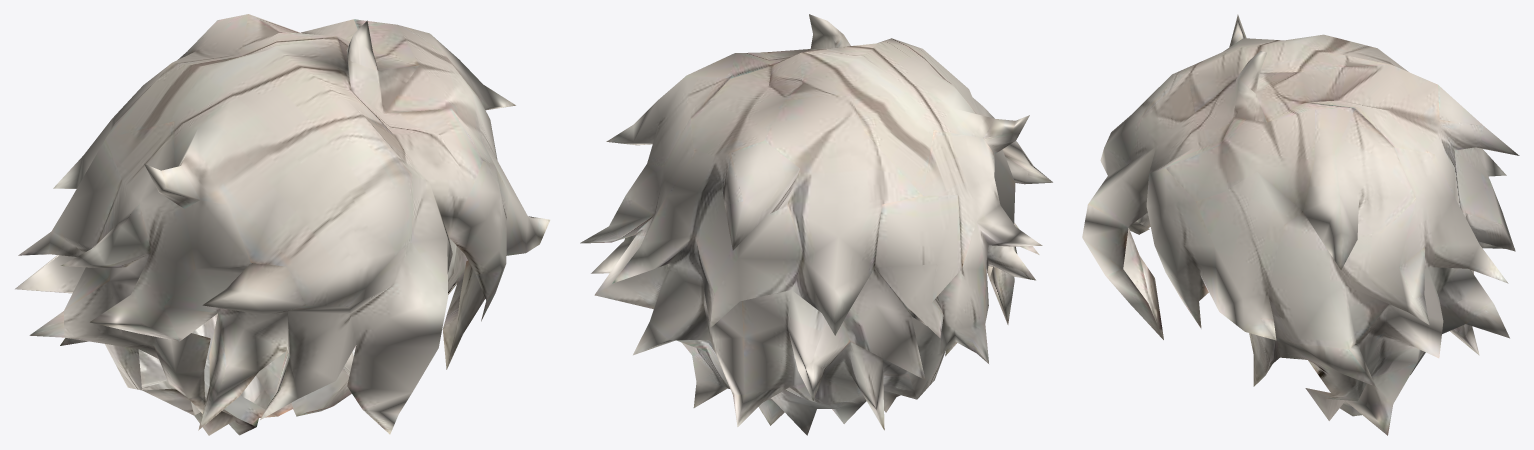
The model's file is hero_chibi_hair.glb.
3 renders of one model, left to right at view 1: azimuth 30°, elevation 25°; view 2: azimuth 150°, elevation 25°; view 3: azimuth 270°, elevation 25°, orthographic. The views are drawn at different scales.
Visible parts, largest first — view 1: Mesh_0; view 2: Mesh_0; view 3: Mesh_0.
Boxes of the visible parts, x1,y1,x2,y2 form: Mesh_0: [15, 14, 550, 435]; Mesh_0: [580, 14, 1052, 435]; Mesh_0: [1082, 14, 1519, 435].
Size of the model in its own units: 0.3352 by 0.2889 by 0.3118.
1 material, 1 textured.
